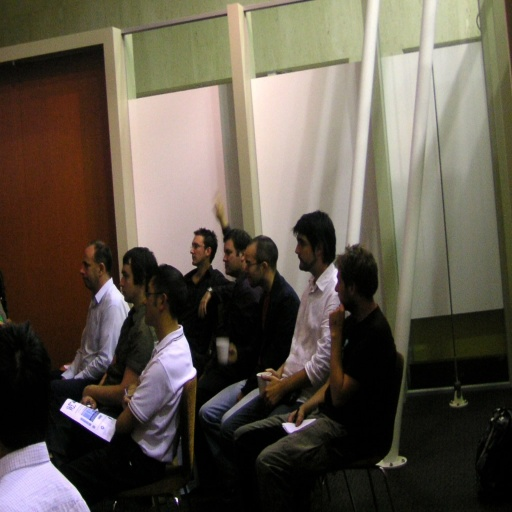hand: (260, 374, 283, 408), (213, 194, 229, 226), (328, 304, 345, 334), (196, 292, 211, 320), (287, 406, 305, 424), (121, 391, 134, 412), (80, 396, 96, 412), (82, 384, 96, 399), (264, 367, 280, 380), (228, 344, 238, 364)
